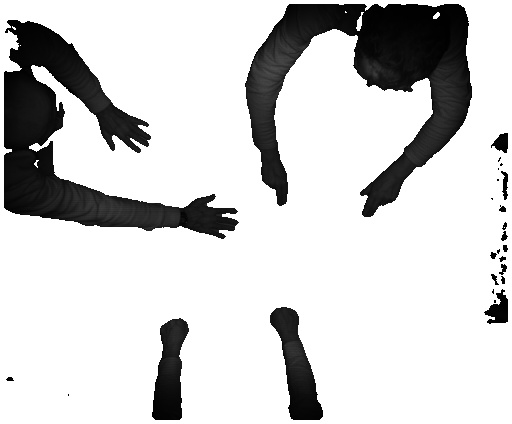fist: (264, 304, 303, 337), (160, 312, 191, 348)
hand: (186, 192, 239, 239), (103, 109, 151, 159), (360, 172, 403, 223), (256, 162, 287, 207)
